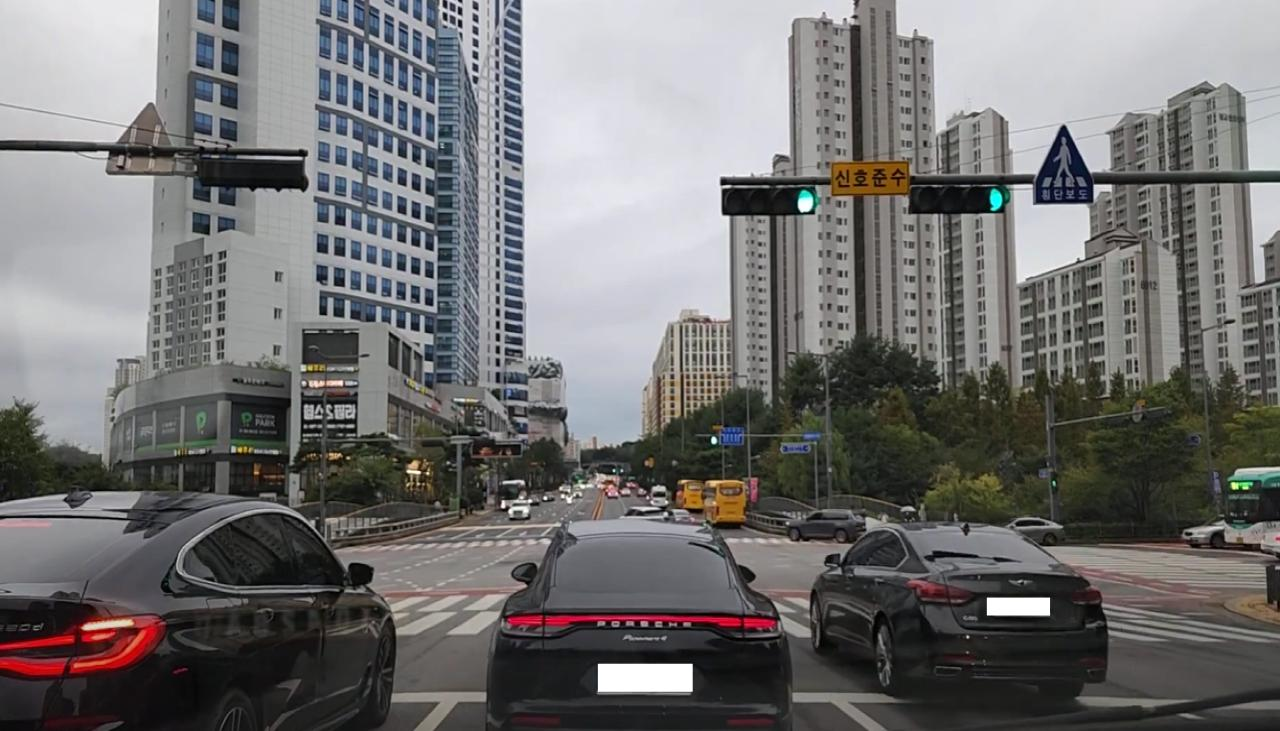Green Light: (793, 185, 816, 216), (985, 181, 1008, 212)
